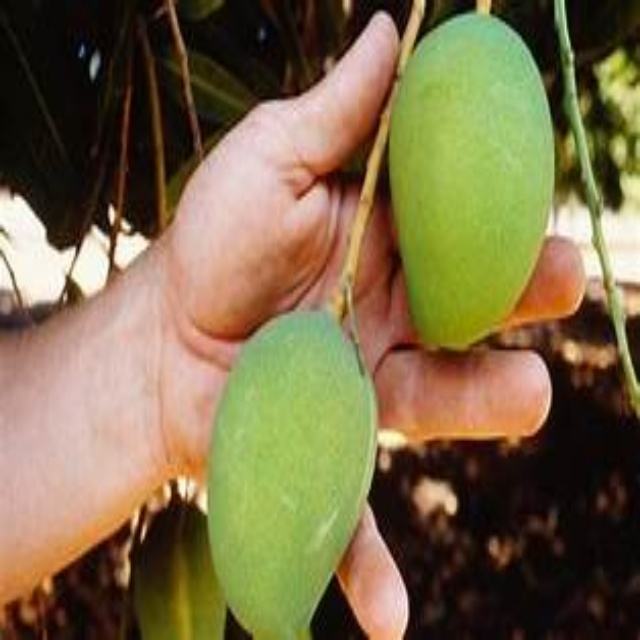mango: (389, 13, 565, 361), (205, 311, 376, 635)
